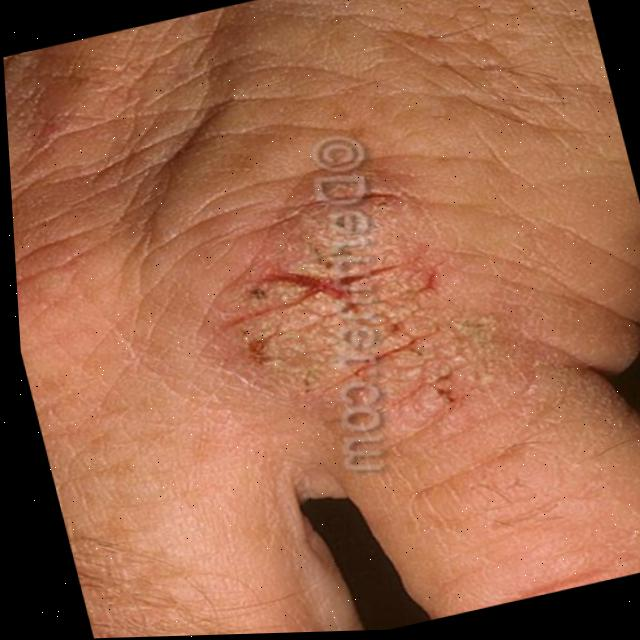Eczema: (204, 200, 432, 398)
